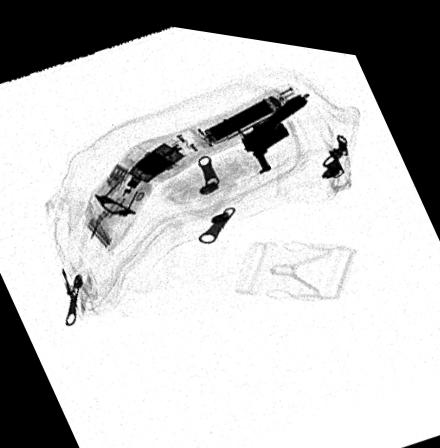Gun: (238, 79, 308, 165)
